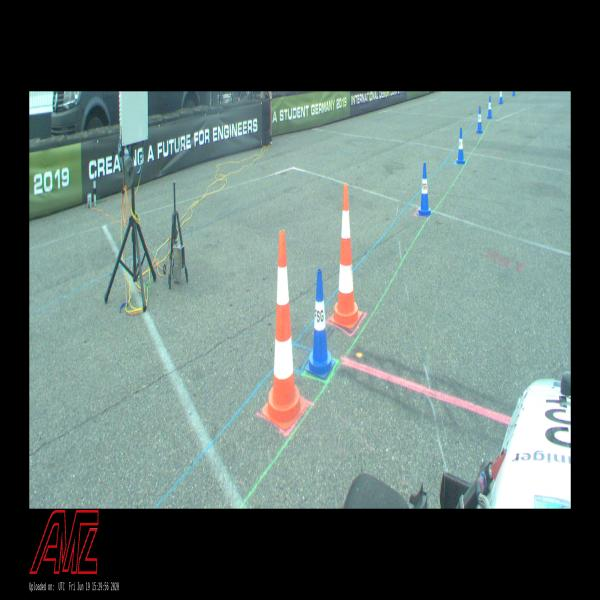blue_cone: (305, 269, 335, 379), (418, 163, 432, 217), (456, 126, 465, 164), (476, 106, 483, 134), (487, 97, 492, 118), (499, 92, 503, 104)
large_orange_cone: (262, 231, 306, 431), (330, 184, 362, 330)
